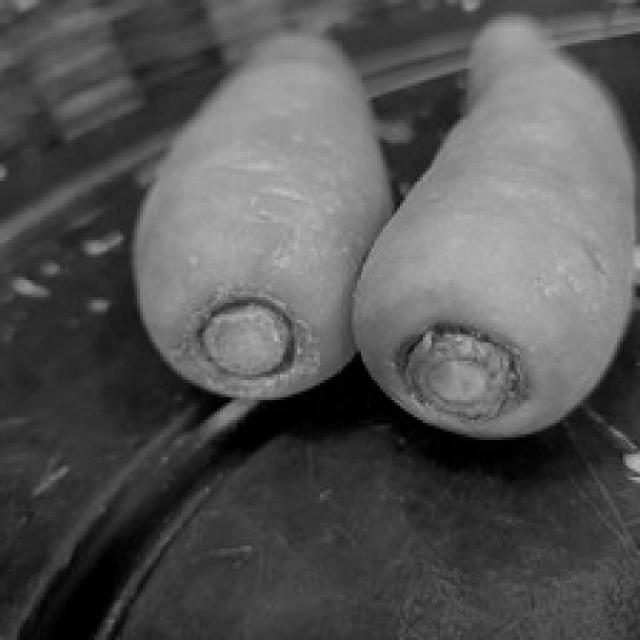Fresh_Carrot: (372, 31, 624, 414), (172, 26, 365, 382)
